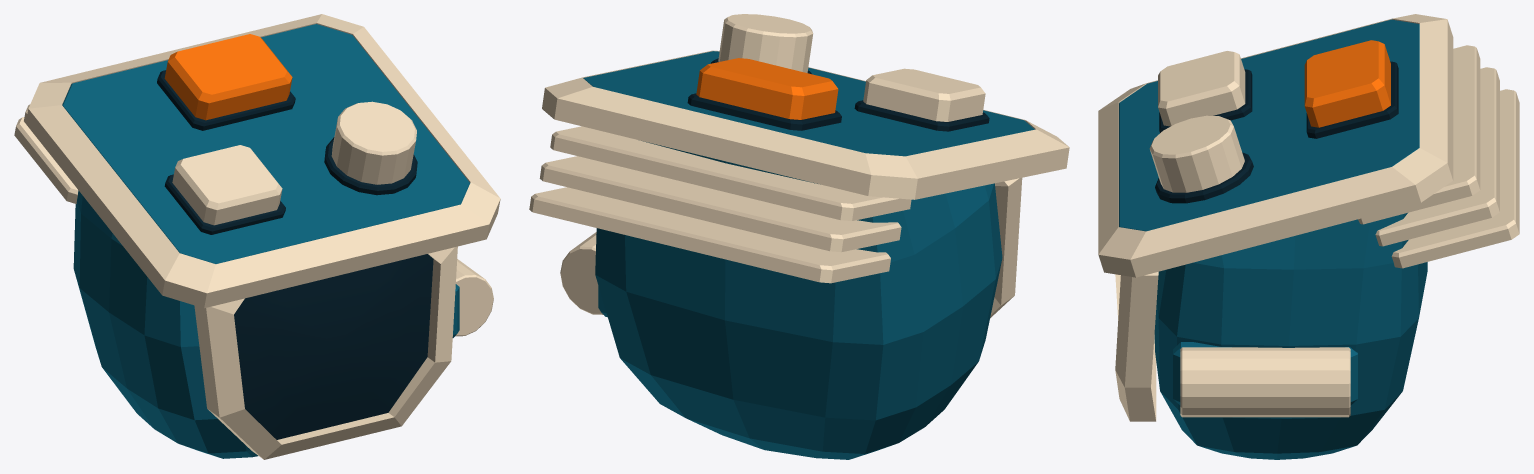
Rendered from copilot_architect_v01.glb.
3 views of the same model, side by side, from view 1: azimuth 30°, elevation 25°; view 2: azimuth 150°, elevation 25°; view 3: azimuth 270°, elevation 25° (orthographic). The views are drawn at different scales.
Parts seen in each view (by area): view 1: pavilion_body; view 2: pavilion_body; view 3: pavilion_body.
Boxes of the visible parts, x1,y1,x2,y2 form: pavilion_body: [14, 14, 500, 459]; pavilion_body: [529, 14, 1069, 459]; pavilion_body: [1098, 14, 1519, 459].
Bounding box in the file's own units: 2.93 × 2.73 × 2.9.
Materials: 1 (1 with a texture image).
